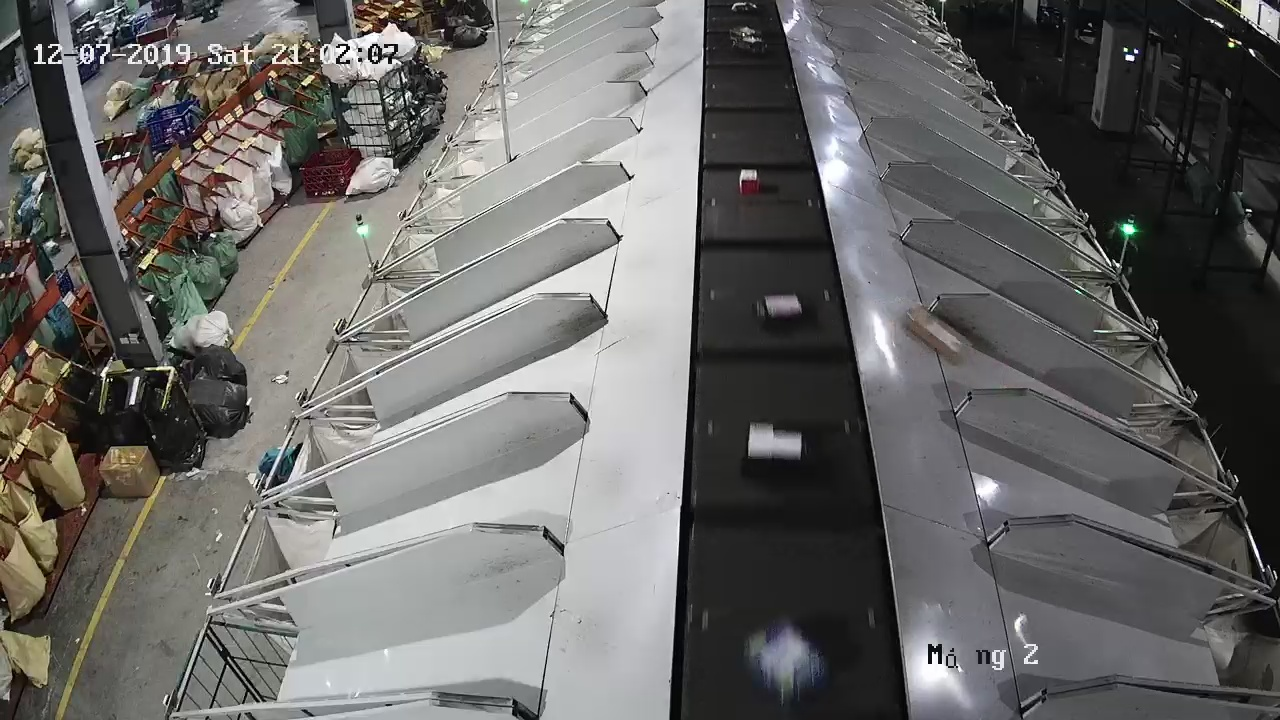parcel: (904, 302, 966, 366)
